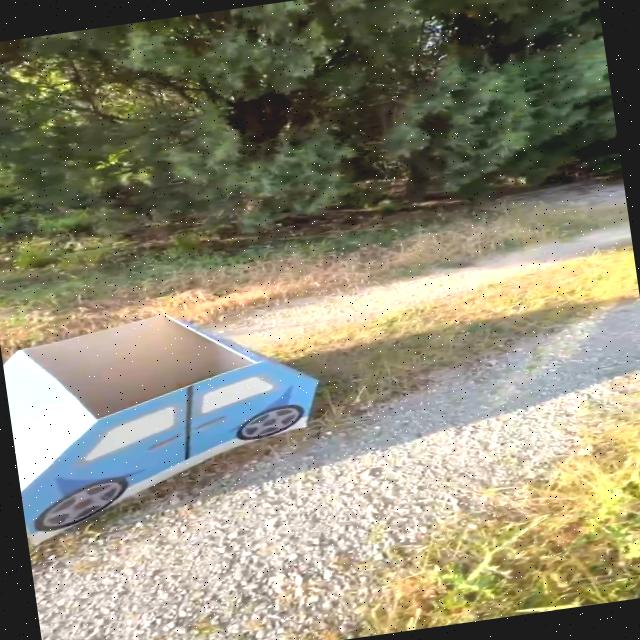blue_car: (0, 257, 389, 556)
